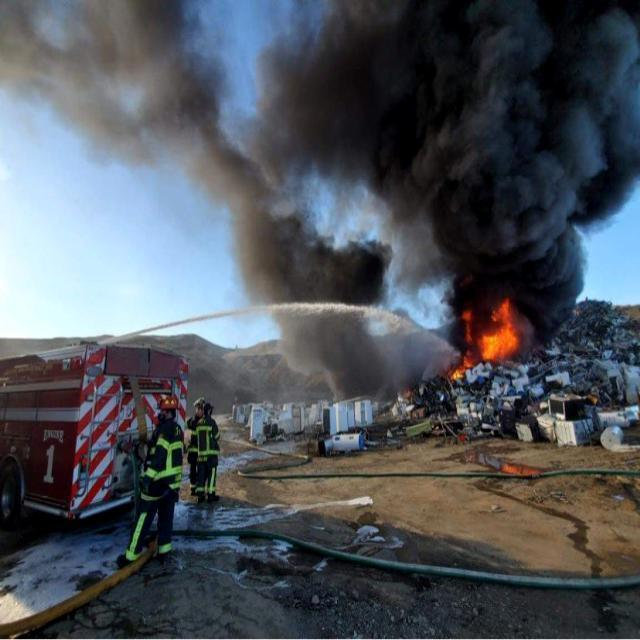Fire: (462, 300, 540, 367)
Smoke: (0, 0, 353, 362), (312, 0, 640, 326)
